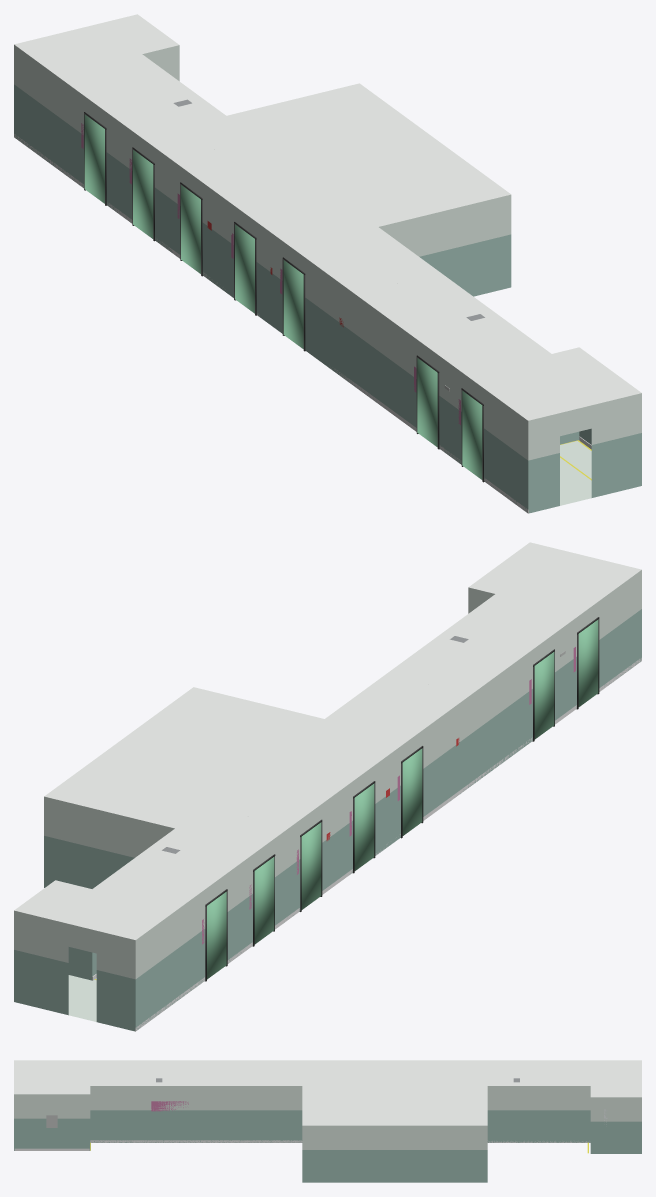
The model's file is pasillo2.fbx.
3 views of the same model, one above another, from view 1: azimuth 30°, elevation 25°; view 2: azimuth 150°, elevation 25°; view 3: azimuth 270°, elevation 25° (orthographic). The views are drawn at different scales.
Parts seen in each view (by area): view 1: Techo, Pared_Oeste, Sala_Ventana_Techo, Pared_Sur, Sala_Ventana, Piso, Puerta_2_Panel, Puerta_7_Panel, Puerta_1_Panel, Puerta_3_Panel, Puerta_6_Panel, Puerta_4_Panel (+2 smaller); view 2: Techo, Pared_Oeste, Sala_Ventana_Techo, Pared_Norte, Sala_Ventana, Puerta_3_Panel, Puerta_5_Panel, Puerta_6_Panel, Puerta_2_Panel, Puerta_4_Panel, Puerta_1_Panel, Puerta_7_Panel (+2 smaller); view 3: Pared_Este, Techo, Sala_Ventana, Sala_Ventana_Techo, Coving_E_1, Cartel_Mag_Doble_E, Coving_E_2.
Boxes of the visible parts, x1,y1,x2,y2 form: Techo: [14, 14, 641, 420]; Pared_Oeste: [14, 44, 528, 512]; Sala_Ventana_Techo: [226, 83, 510, 226]; Pared_Sur: [528, 393, 641, 513]; Sala_Ventana: [379, 194, 511, 296]; Piso: [560, 441, 591, 505]; Puerta_2_Panel: [417, 358, 437, 447]; Puerta_7_Panel: [84, 114, 104, 203]; Puerta_1_Panel: [462, 391, 482, 479]; Puerta_3_Panel: [283, 260, 303, 348]; Puerta_6_Panel: [133, 150, 153, 238]; Puerta_4_Panel: [235, 224, 254, 313]; Techo: [14, 542, 641, 939]; Pared_Oeste: [135, 570, 641, 1030]; Sala_Ventana_Techo: [44, 687, 324, 828]; Pared_Norte: [14, 910, 135, 1031]; Sala_Ventana: [44, 796, 174, 888]; Puerta_3_Panel: [402, 748, 422, 835]; Puerta_5_Panel: [301, 822, 321, 909]; Puerta_6_Panel: [254, 857, 274, 944]; Puerta_2_Panel: [534, 652, 554, 739]; Puerta_4_Panel: [354, 783, 374, 870]; Puerta_1_Panel: [578, 619, 598, 706]; Puerta_7_Panel: [207, 891, 226, 979]; Pared_Este: [14, 1086, 641, 1153]; Techo: [14, 1060, 641, 1097]; Sala_Ventana: [302, 1125, 487, 1182]; Sala_Ventana_Techo: [302, 1086, 487, 1125]; Coving_E_1: [90, 1140, 590, 1142]; Cartel_Mag_Doble_E: [151, 1101, 188, 1111]; Coving_E_2: [14, 1148, 89, 1150].
Bounding box in the file's own units: 695 × 282 × 2810.
